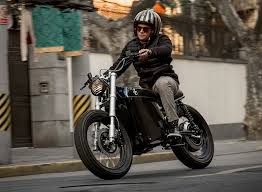motorcycle: (73, 53, 216, 180)
